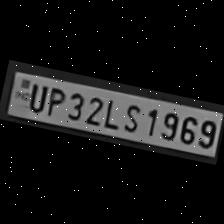1: (138, 104, 162, 138)
2: (80, 92, 106, 126)
3: (61, 87, 86, 121)
6: (175, 111, 200, 145)
9: (194, 115, 220, 149), (156, 107, 180, 141)
L: (100, 95, 122, 129)
P: (42, 83, 66, 118)
S: (118, 99, 144, 133)
U: (22, 78, 47, 112)
